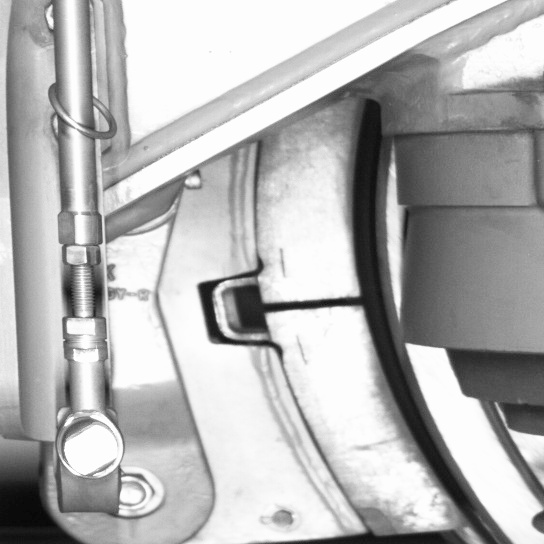KnifeSwitch: (257, 134, 512, 541)
